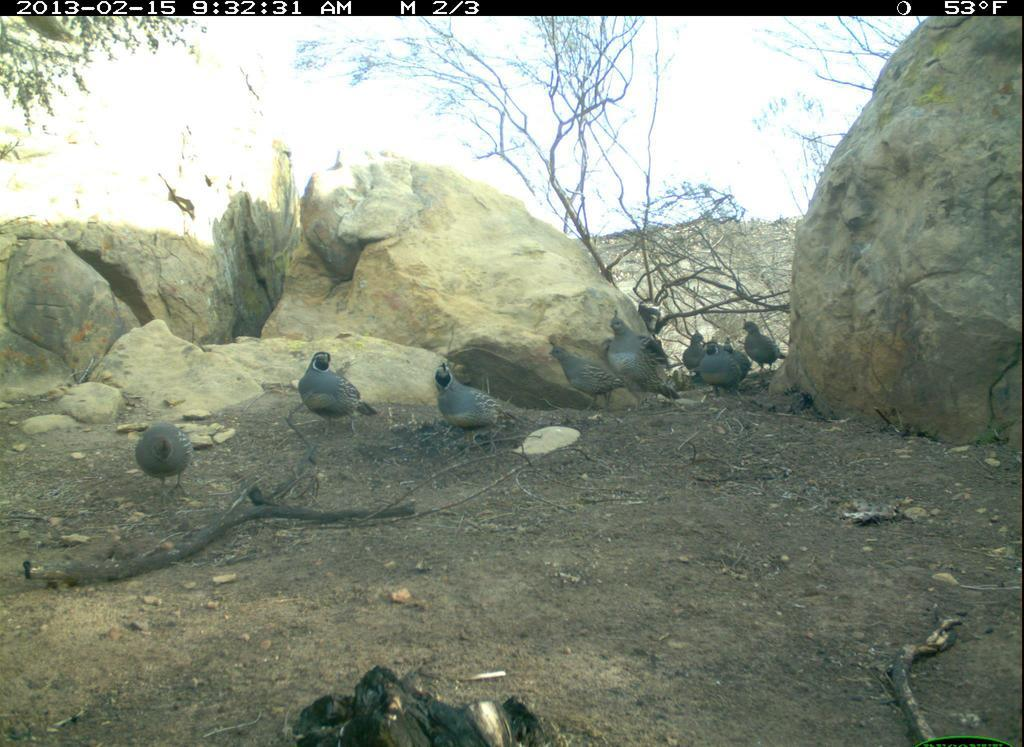bird: (431, 361, 520, 460), (605, 308, 685, 412), (296, 348, 382, 442), (547, 341, 630, 414), (137, 418, 200, 502), (699, 340, 743, 400), (744, 321, 788, 374), (680, 327, 715, 376), (722, 338, 754, 386)
